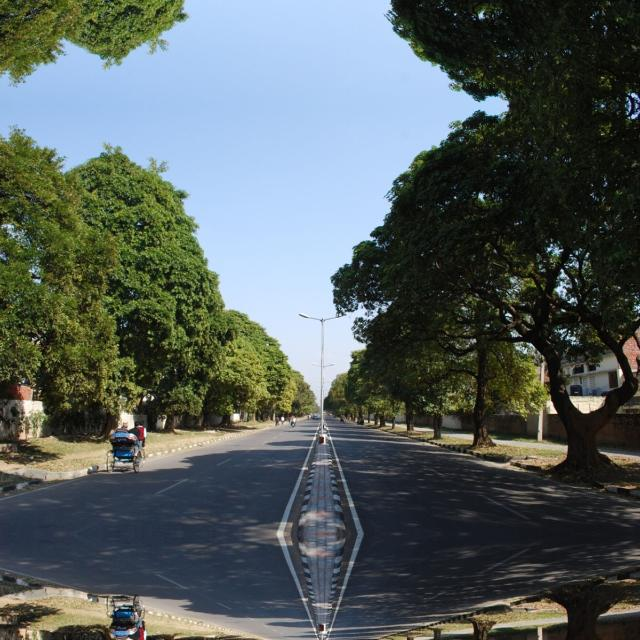obstacle: (404, 110, 640, 502), (404, 0, 640, 99), (404, 565, 640, 640)
